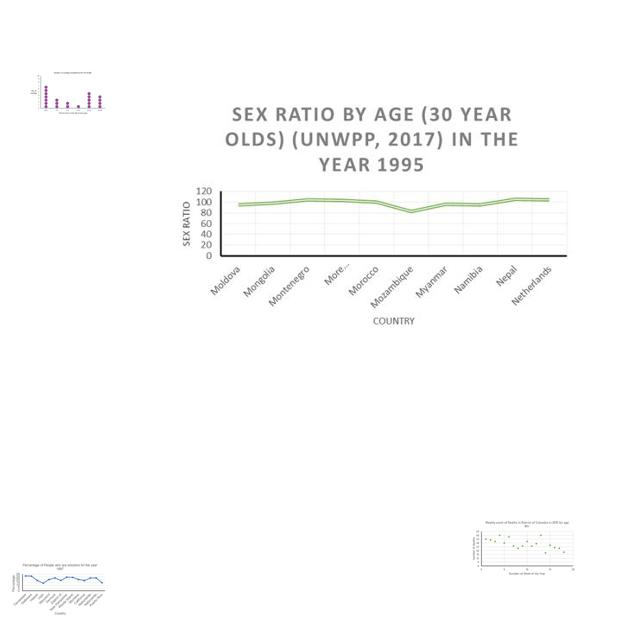Graph: (172, 98, 572, 329), (471, 520, 577, 578), (9, 562, 107, 616), (28, 70, 107, 116)
